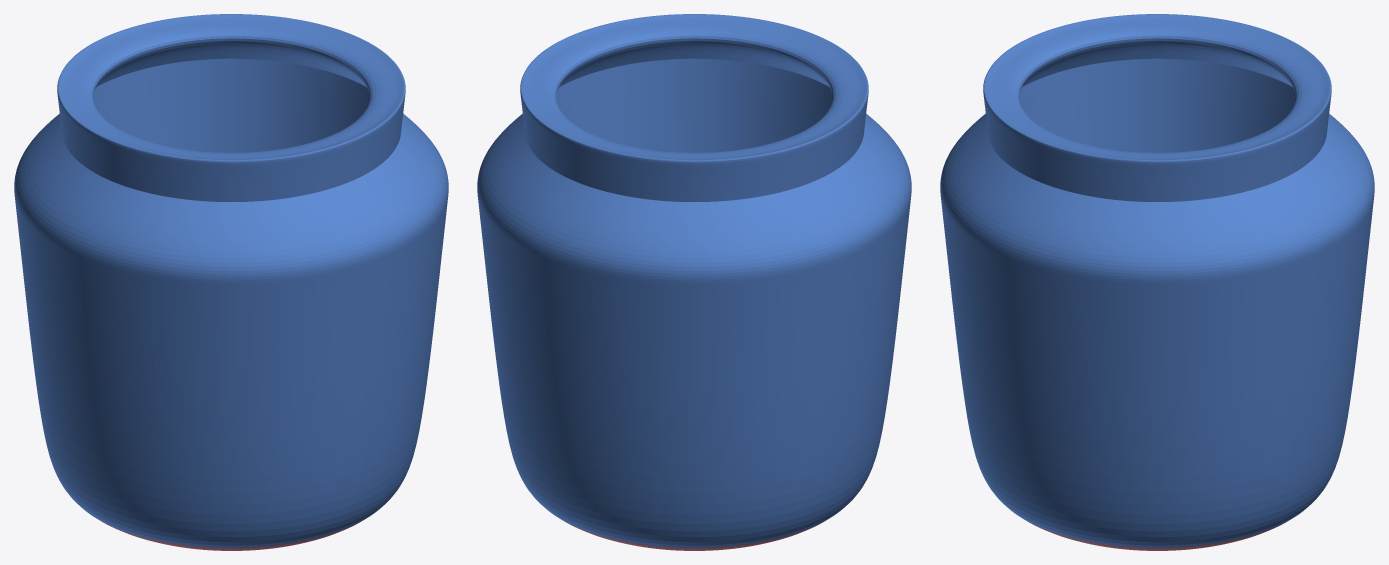
File: vaas1.fbx
3 views of the same model, side by side, from view 1: azimuth 30°, elevation 25°; view 2: azimuth 150°, elevation 25°; view 3: azimuth 270°, elevation 25° (orthographic).
Visible parts, largest first — view 1: Circle; view 2: Circle; view 3: Circle.
Boxes of the visible parts, x1,y1,x2,y2 form: Circle: (14, 14, 448, 550); Circle: (477, 14, 911, 550); Circle: (940, 14, 1374, 550).
Size of the model in its own units: 321 by 335 by 321.
Materials: 1 (1 with a texture image).
